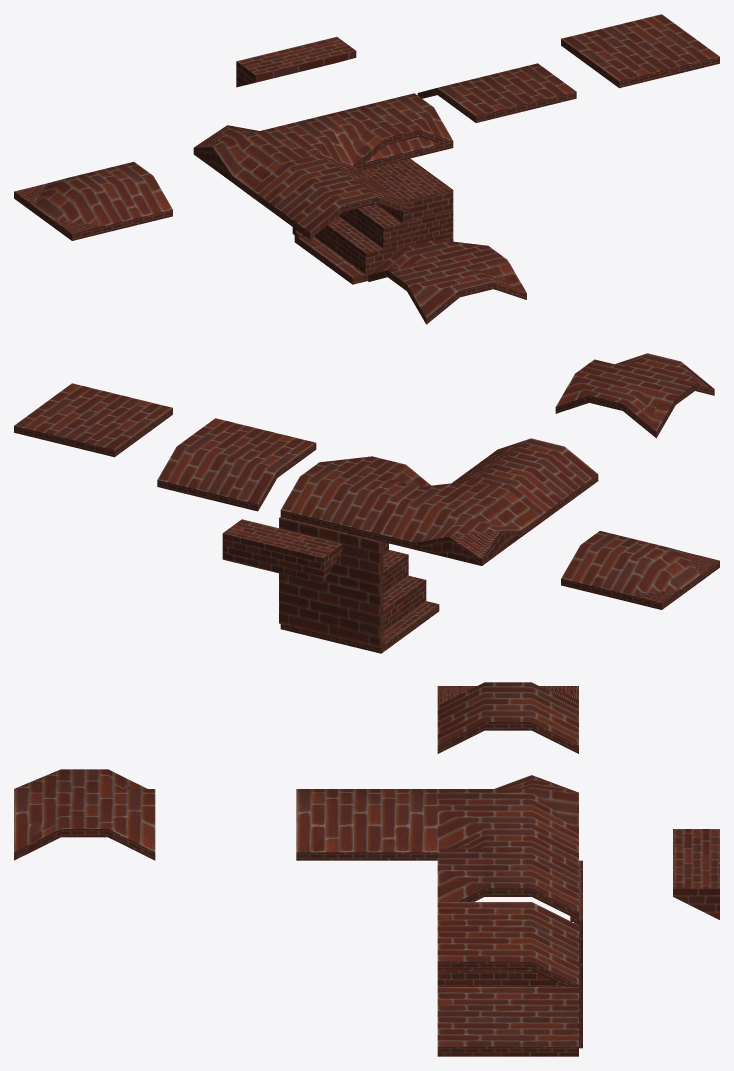
File: Corridor.fbx
3 views of the same model, one above another, from view 1: azimuth 30°, elevation 25°; view 2: azimuth 150°, elevation 25°; view 3: azimuth 270°, elevation 25° (orthographic). The views are drawn at different scales.
Visible parts, largest first — view 1: Cube.015, Cube.012, Cube.013, Cube.004, Cube.007, Cube.006, Cube.002, Cube.001, Cube.011, Cube.005, Cube; view 2: Cube.006, Cube.002, Cube.008, Cube.012, Cube.013, Cube.004, Cube.001, Cube.007, Cube.005, Cube.011, Cube.015, Cube; view 3: Cube.007, Cube.013, Cube.004, Cube.002, Cube.012, Cube.006, Cube.001, Cube.011, Cube.005, Cube.015, Cube.008.
Boxes of the visible parts, box(x1,y1,x2,y2) form: Cube.015: box(299, 158, 453, 284); Cube.012: box(14, 162, 172, 240); Cube.013: box(368, 239, 526, 324); Cube.004: box(561, 14, 719, 88); Cube.007: box(252, 154, 410, 239); Cube.006: box(193, 118, 352, 196); Cube.002: box(417, 63, 576, 122); Cube.001: box(314, 93, 453, 170); Cube.011: box(315, 94, 452, 165); Cube.005: box(236, 37, 356, 87); Cube: box(294, 235, 369, 284); Cube.006: box(381, 481, 540, 565); Cube.002: box(157, 418, 316, 511); Cube.008: box(279, 517, 383, 647); Cube.012: box(561, 531, 719, 609); Cube.013: box(555, 353, 714, 438); Cube.004: box(14, 383, 172, 457); Cube.001: box(280, 462, 419, 541); Cube.007: box(452, 438, 598, 522); Cube.005: box(222, 519, 342, 583); Cube.011: box(281, 456, 430, 540); Cube.015: box(281, 542, 438, 653); Cube: box(280, 604, 439, 653); Cube.007: box(296, 789, 437, 860); Cube.013: box(14, 769, 155, 860); Cube.004: box(437, 987, 578, 1054); Cube.002: box(437, 902, 578, 986); Cube.012: box(437, 682, 578, 753); Cube.006: box(437, 775, 578, 851); Cube.001: box(445, 828, 578, 920); Cube.011: box(437, 829, 578, 910); Cube.005: box(673, 829, 719, 919); Cube.015: box(437, 970, 565, 986); Cube.008: box(574, 860, 582, 1048).
Size of the model in its own units: 1287 by 263 by 1000.
1 material, 1 textured.
